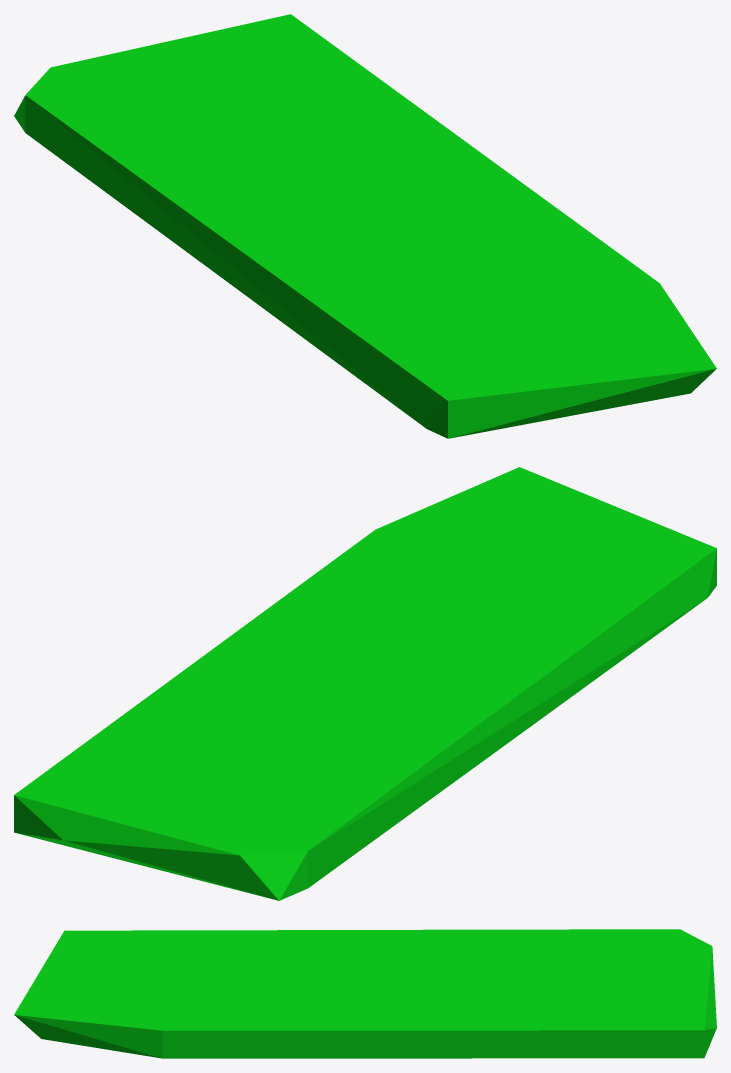
The model's file is model0_convex_piece_025.obj.
3 renders of one model, top to bottom at view 1: azimuth 30°, elevation 25°; view 2: azimuth 150°, elevation 25°; view 3: azimuth 270°, elevation 25°, orthographic. The views are drawn at different scales.
Bounding box in the file's own units: 0.0164 × 0.00209 × 0.0476.
